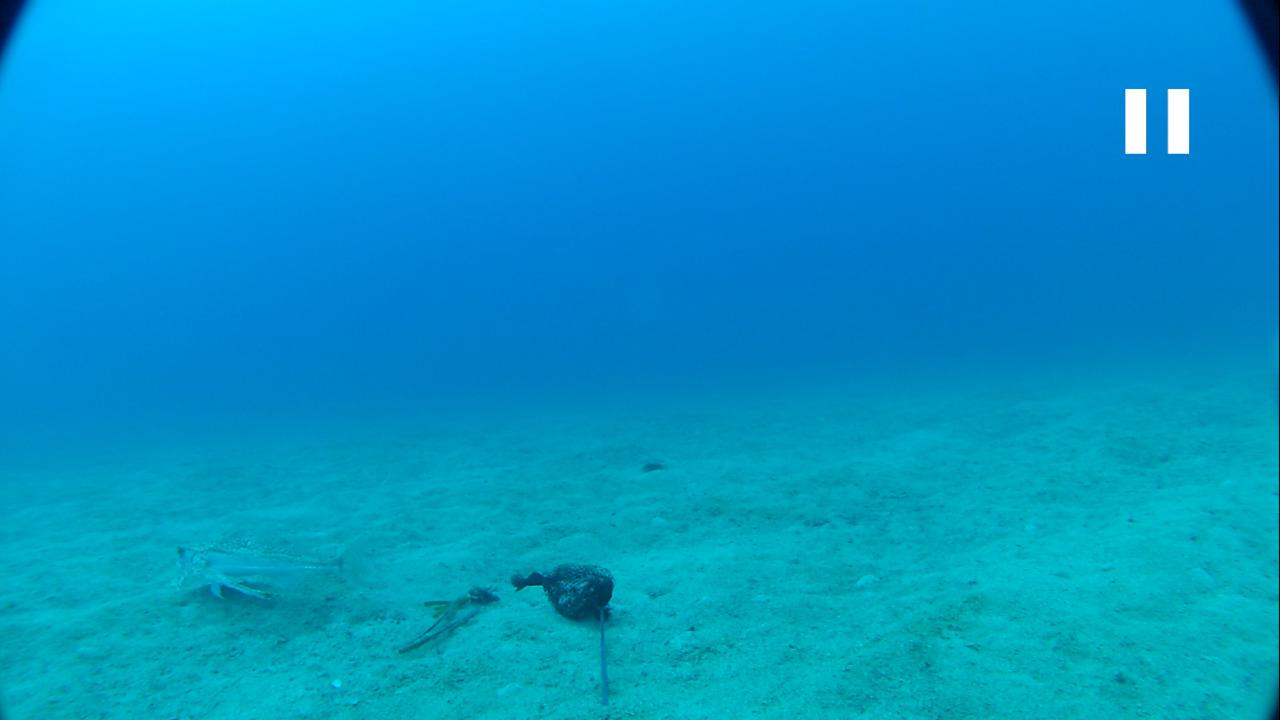dactylopterus: (168, 535, 366, 617)
